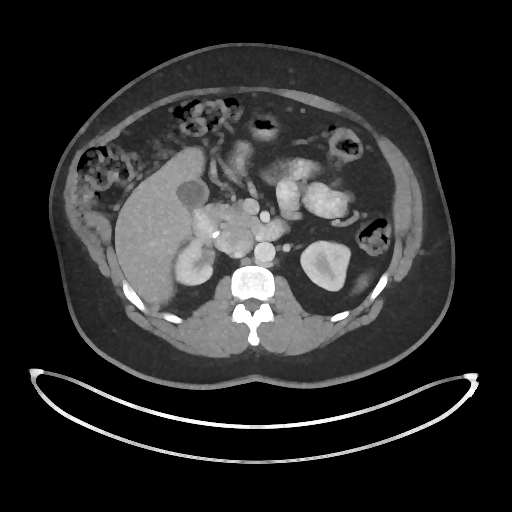Lesion: (194, 247, 217, 273)
